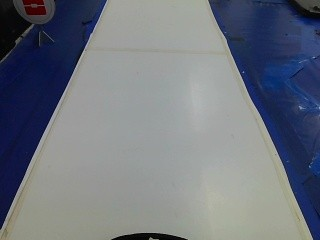company: (11, 0, 56, 25)
